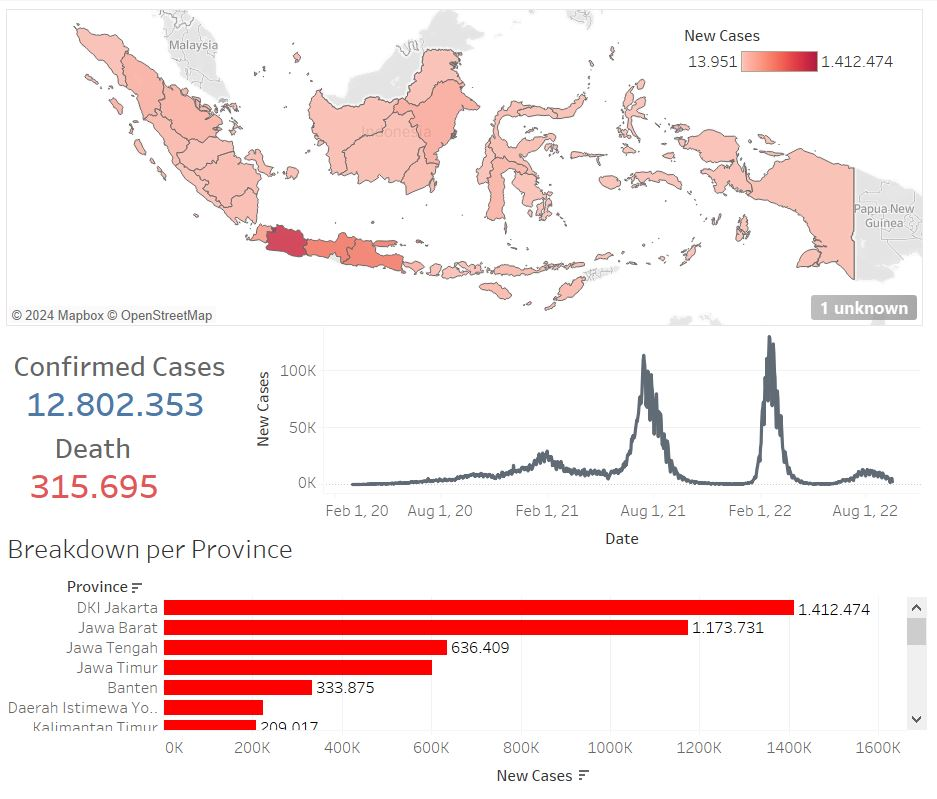

The dashboard page shown, as its layout file describes it:
{"tool":"tableau","page":{"name":"Dashboard Covid19","canvas":[1000,800],"ordinal":0},"visuals":[{"type":"worksheet","title":"Maps Distribution Covid","mark":"Automatic","box":[9,8,917,317]},{"type":"legend","title":"Maps Distribution Covid","param":"[federated.1bs5w13077r7nk1avfv0d1y7t3yg].[sum:New Cases:qk]","box":[687,24,214,63]},{"type":"worksheet","title":"Daily New Cases","mark":"Automatic","rows":["New Cases"],"cols":["Date"],"box":[248,326,676,229]},{"type":"text","box":[13,335,226,59]},{"type":"worksheet","title":"Confirmed Cases","mark":"Automatic","box":[12,379,218,78]},{"type":"text","box":[54,428,100,37]},{"type":"worksheet","title":"Death","mark":"Automatic","box":[26,461,179,59]},{"type":"worksheet","title":"Breakdown per Province","mark":"Automatic","rows":["Province"],"cols":["New Cases"],"box":[6,526,924,266]}]}

Visuals, with their boxes on the page's 1000x800 design canvas (x1, y1, x2, y2). These are canvas units, not pixel positions in the 937x799 screenshot, which may show the page scaled, cropped or inside an application window:
"Maps Distribution Covid" worksheet: 9 8 926 325
"Maps Distribution Covid" legend: 687 24 901 87
"Daily New Cases" worksheet: 248 326 924 555
text: 13 335 239 394
"Confirmed Cases" worksheet: 12 379 230 457
text: 54 428 154 465
"Death" worksheet: 26 461 205 520
"Breakdown per Province" worksheet: 6 526 930 792
